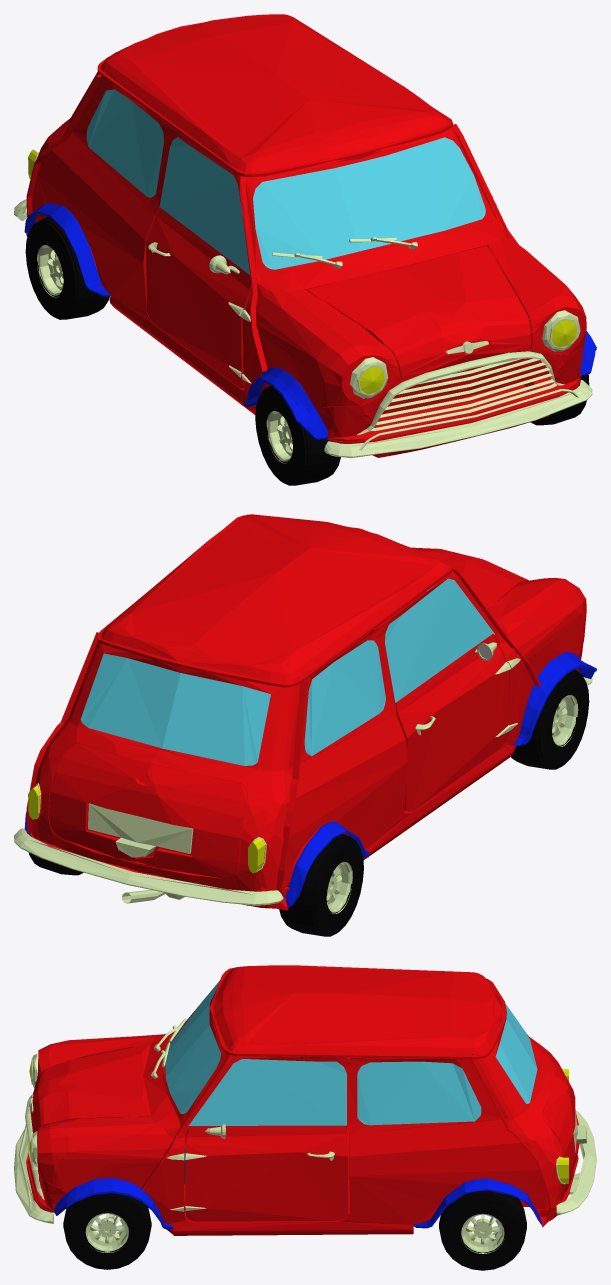
File: MiniCooper.fbx
3 views of the same model, one above another, from view 1: azimuth 30°, elevation 25°; view 2: azimuth 150°, elevation 25°; view 3: azimuth 270°, elevation 25° (orthographic). The views are drawn at different scales.
Parts seen in each view (by area): view 1: Body3, Roof2, Windshield2, DoorRight2, WindowFrontRight2, Tire_RearRight2, Tire_FrontRight2, Wipers2, Tire_FrontLeft2; view 2: Body3, Roof2, Body.003, DoorRight2, WindowFrontRight2, Tire_RearRight2, Tire_FrontRight2; view 3: Body3, Roof2, DoorLeft2, WindowFrontLeft2, Tire_RearLeft2, Tire_FrontLeft2, Windshield2, Body.003, Wipers2.
Part boxes in pixels (box(x1,y1,x2,y2)): Body3: box(14, 71, 596, 458); Roof2: box(97, 14, 452, 177); Windshield2: box(253, 137, 485, 269); DoorRight2: box(146, 207, 251, 388); WindowFrontRight2: box(159, 137, 250, 274); Tire_RearRight2: box(25, 216, 109, 319); Tire_FrontRight2: box(255, 385, 340, 485); Wipers2: box(272, 237, 417, 268); Tire_FrontLeft2: box(530, 374, 589, 425); Body3: box(14, 547, 596, 910); Roof2: box(97, 514, 452, 687); Body.003: box(80, 653, 270, 765); DoorRight2: box(395, 633, 510, 812); WindowFrontRight2: box(385, 578, 493, 702); Tire_RearRight2: box(279, 834, 363, 936); Tire_FrontRight2: box(511, 669, 589, 769); Body3: box(14, 981, 596, 1235); Roof2: box(209, 965, 506, 1059); DoorLeft2: box(185, 1123, 348, 1221); WindowFrontLeft2: box(188, 1059, 346, 1125); Tire_RearLeft2: box(439, 1190, 526, 1270); Tire_FrontLeft2: box(63, 1193, 151, 1269); Windshield2: box(165, 981, 220, 1113); Body.003: box(495, 1003, 537, 1103); Wipers2: box(151, 1018, 186, 1078).
Size of the model in its own units: 336 by 287 by 685.
